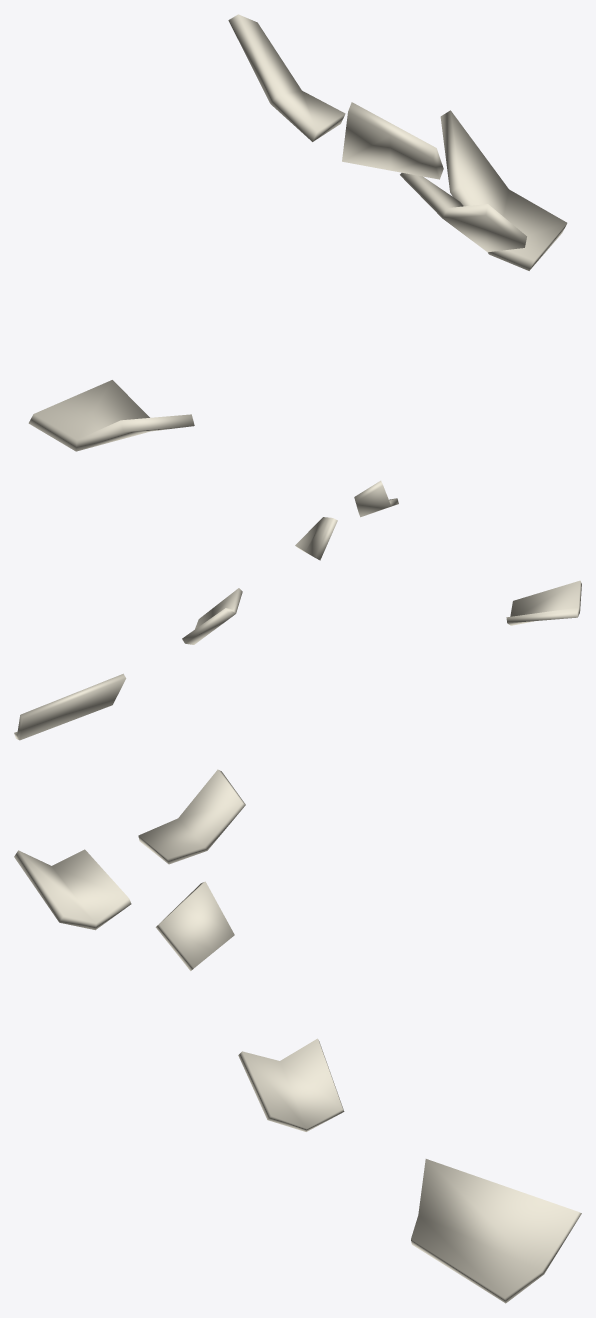
3 renders of one model, top to bottom at view 1: azimuth 30°, elevation 25°; view 2: azimuth 150°, elevation 25°; view 3: azimuth 270°, elevation 25°, orthographic. The views are drawn at different scales.
Parts seen in each view (by area): view 1: ZA_fc7a3d880f269931; view 2: ZA_fc7a3d880f269931; view 3: ZA_fc7a3d880f269931.
Boxes of the visible parts, box(x1,y1,x2,y2) form: ZA_fc7a3d880f269931: box(28, 14, 567, 451); ZA_fc7a3d880f269931: box(14, 480, 581, 740); ZA_fc7a3d880f269931: box(14, 769, 581, 1303).
Bounding box in the file's own units: 0.0398 × 0.0227 × 0.0332.
